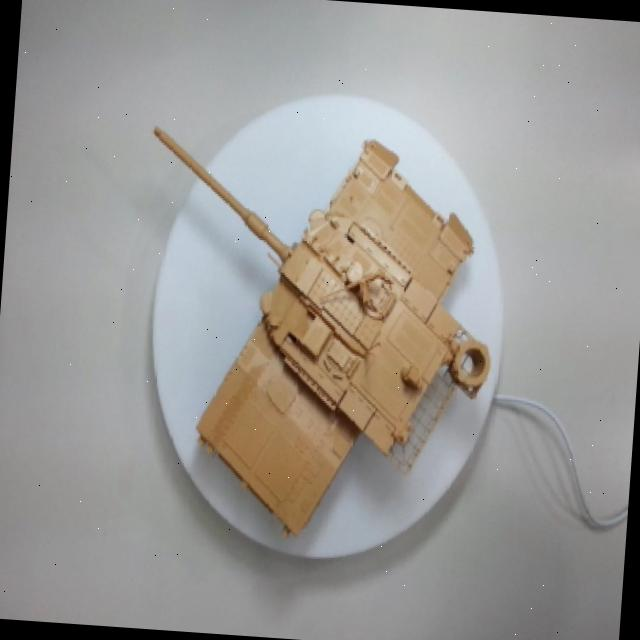korea tank: (89, 90, 524, 569)
